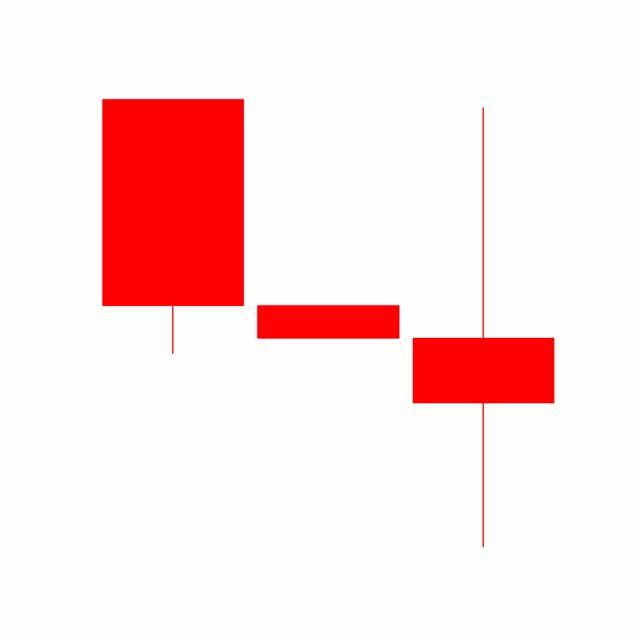Spinning Top: (406, 103, 562, 553)
